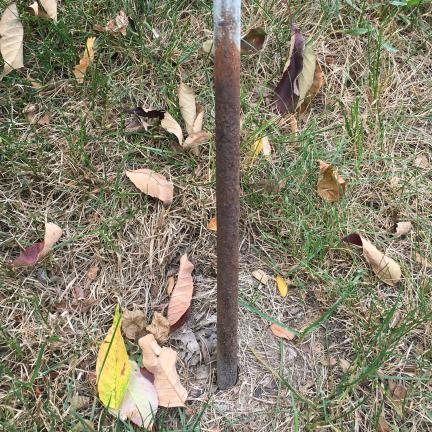karat: (213, 37, 240, 361)
